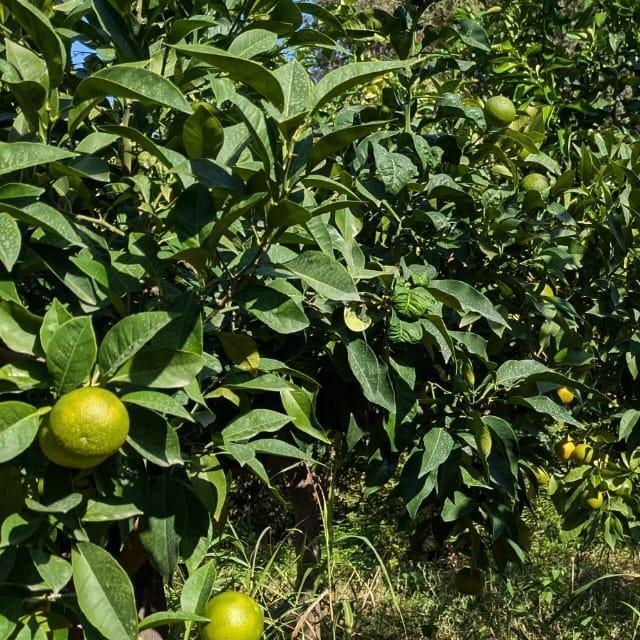orange: (46, 382, 138, 458), (37, 408, 115, 472), (195, 587, 263, 640), (518, 162, 554, 202), (483, 93, 515, 125), (455, 565, 487, 597), (528, 279, 554, 311), (558, 433, 582, 461), (579, 488, 607, 512), (518, 461, 548, 483), (610, 476, 632, 500), (573, 442, 593, 464), (555, 384, 575, 404)
